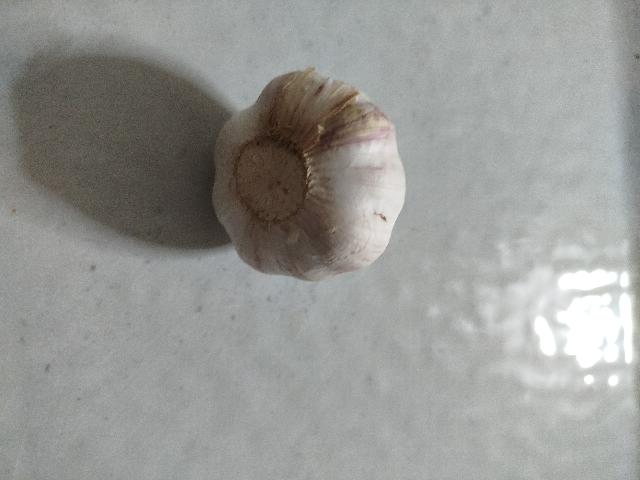garlic: (212, 66, 406, 282)
